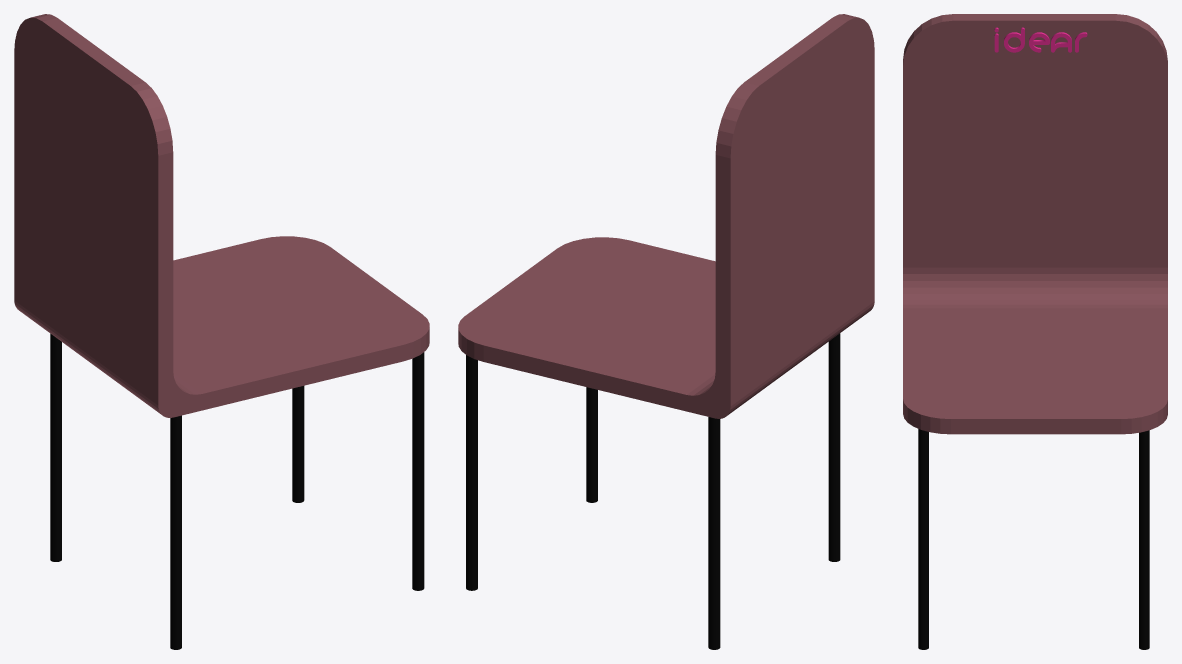
Rendered from Chair 4.fbx.
3 views of the same model, side by side, from view 1: azimuth 30°, elevation 25°; view 2: azimuth 150°, elevation 25°; view 3: azimuth 270°, elevation 25° (orthographic). The views are drawn at different scales.
Visible parts, largest first — view 1: Text.009; view 2: Text.009; view 3: Text.009.
Boxes of the visible parts, box(x1,y1,x2,y2) form: Text.009: box(14, 14, 429, 649); Text.009: box(458, 14, 874, 649); Text.009: box(903, 14, 1167, 649).
Bounding box in the file's own units: 85.57 × 157 × 73.41.
